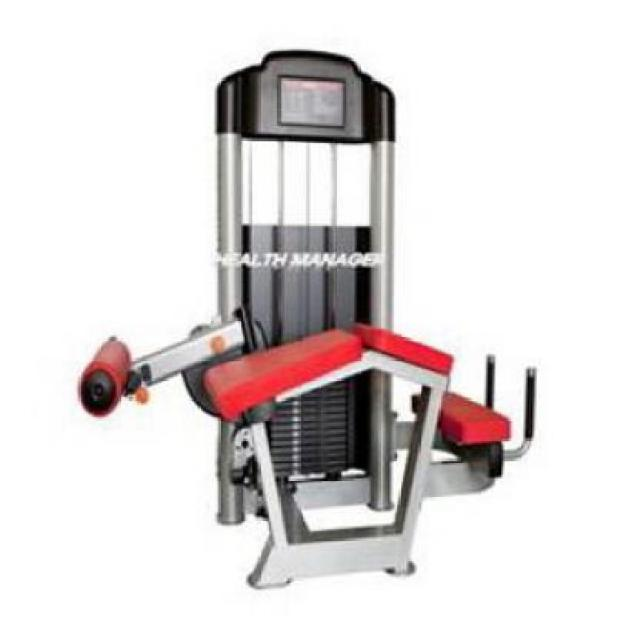reg curl machine: (75, 46, 543, 597)
